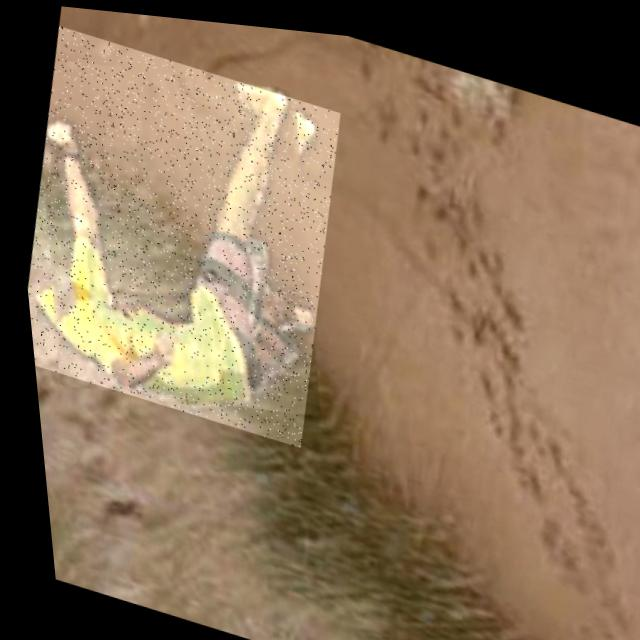Person in Rubble: (1, 18, 365, 446)
